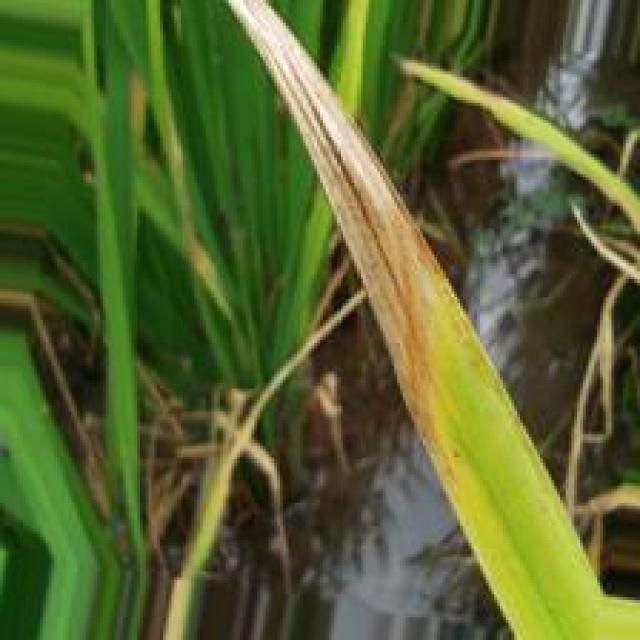Rice False Smut: (229, 0, 453, 458)
